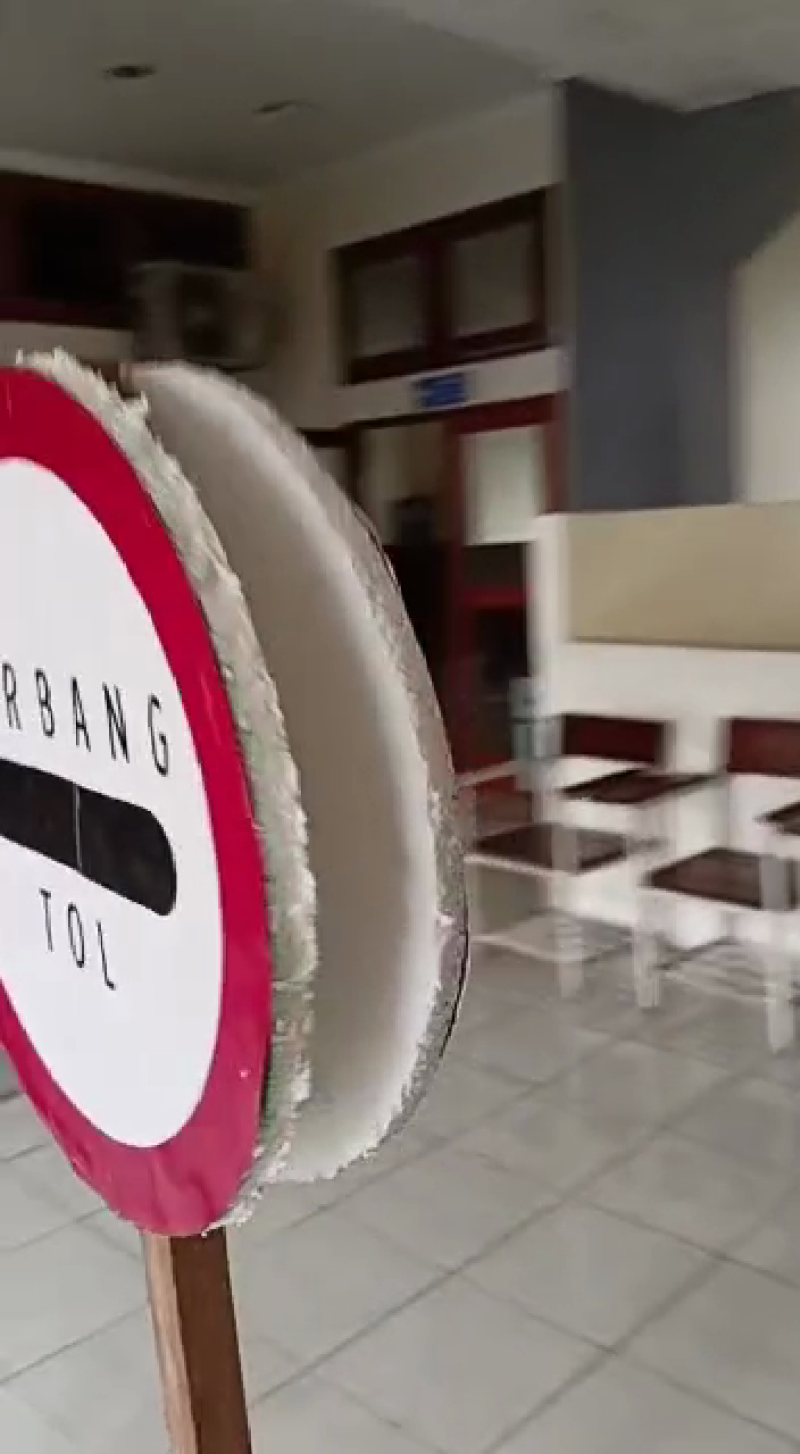gerbang tol: (1, 313, 305, 1250)
